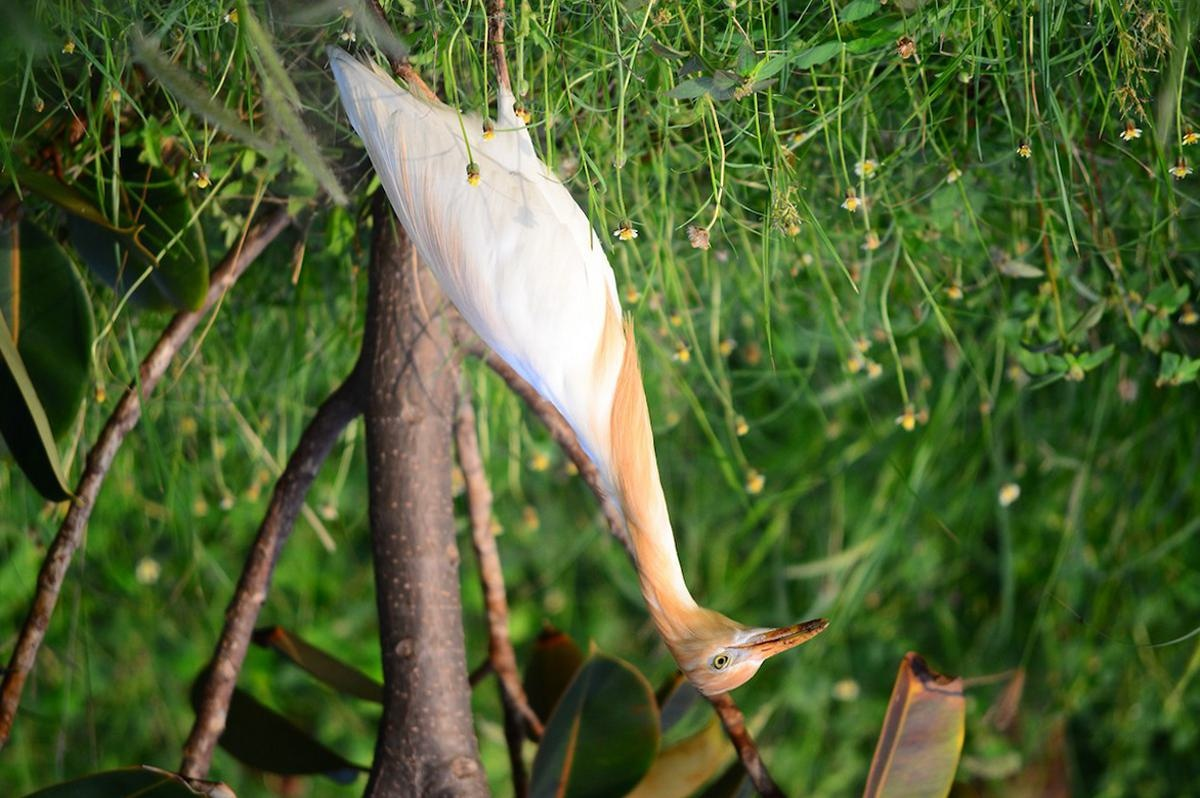egret: (329, 60, 834, 705)
